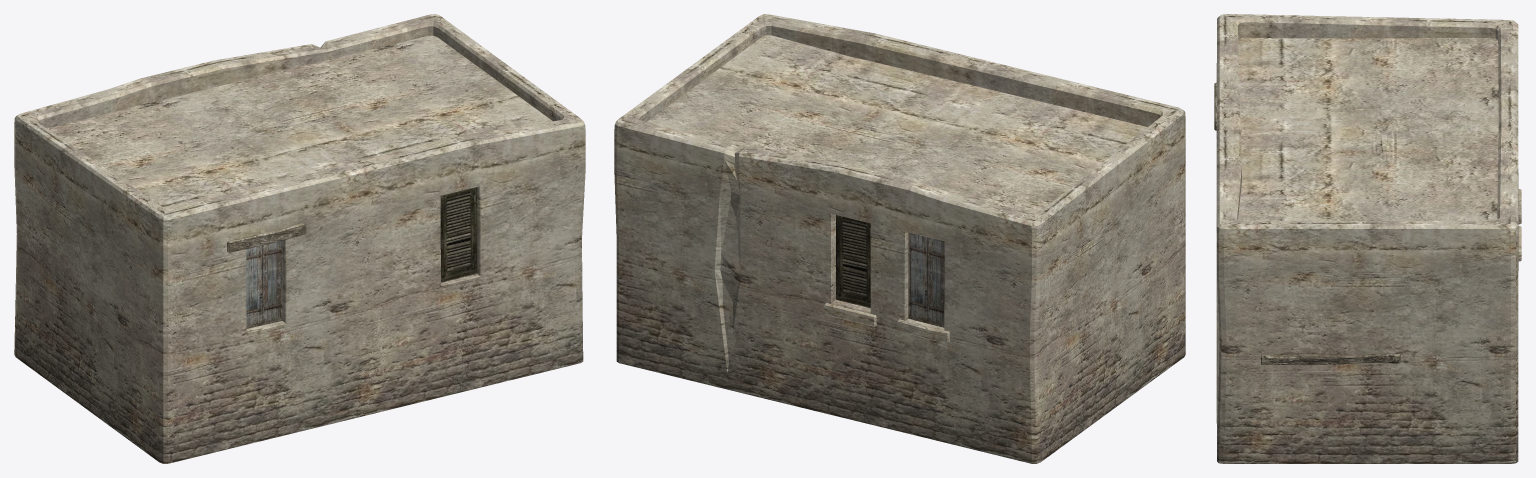
The model's file is TW2_5_HOUSE_01_9-transformed.glb.
3 views of the same model, side by side, from view 1: azimuth 30°, elevation 25°; view 2: azimuth 150°, elevation 25°; view 3: azimuth 270°, elevation 25° (orthographic).
Parts seen in each view (by area): view 1: default; view 2: default; view 3: default.
Boxes of the visible parts, box(x1,y1,x2,y2) form: default: box(14, 14, 585, 463); default: box(614, 14, 1185, 463); default: box(1214, 14, 1521, 463).
Size of the model in its own units: 5.8 by 3.2 by 3.63.
Materials: 3 (3 with a texture image).
